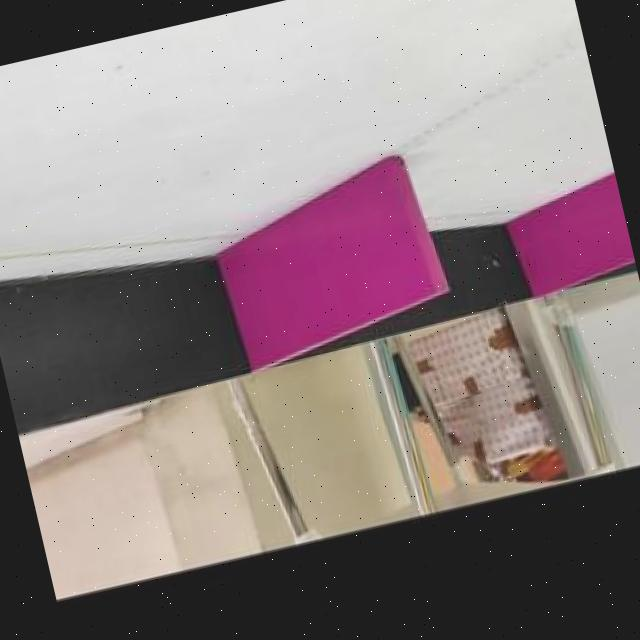xparking: (229, 185, 435, 336), (517, 186, 634, 281)
